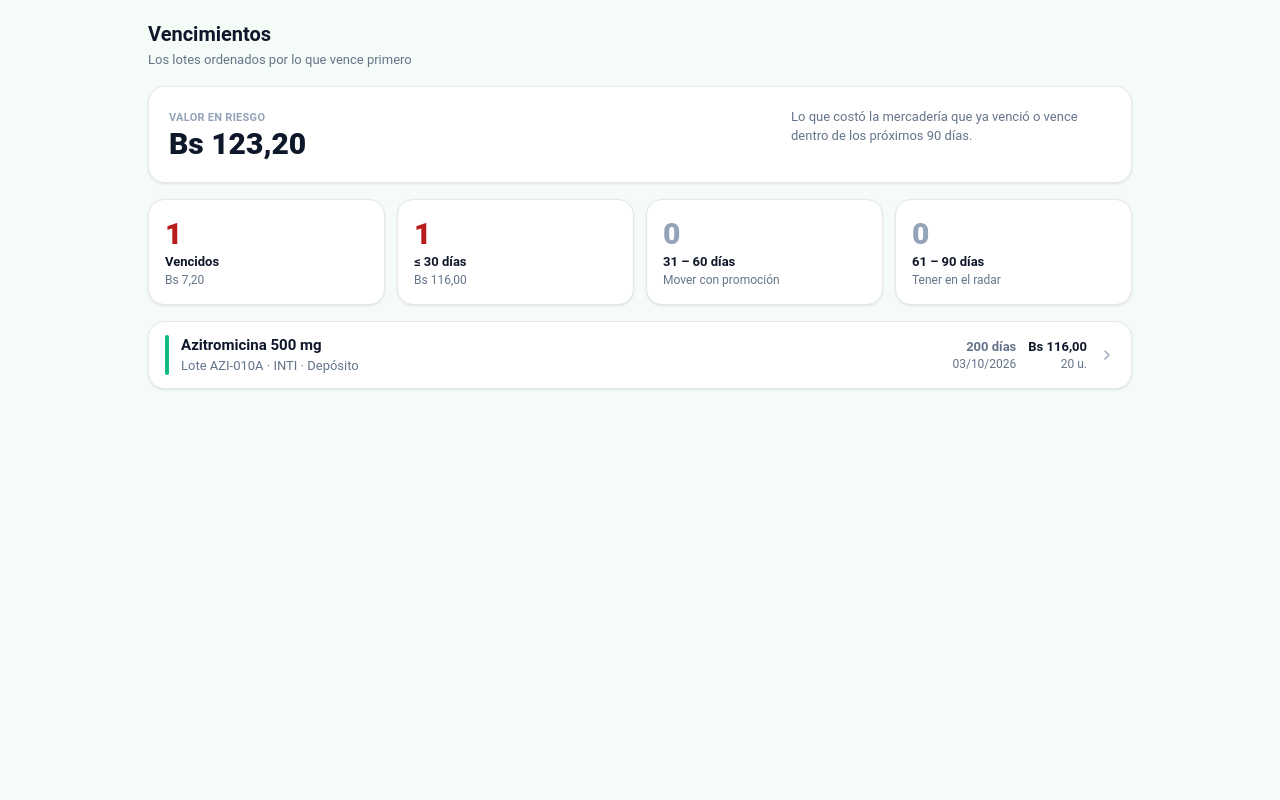
Test: Vencimientos › un lote a más de 90 días no se rotula como «61 – 90 días»
The image size is (1280, 800).
Click the text "Azitromicina 500 mg". click: [251, 344]
box: [181,336,322,354]
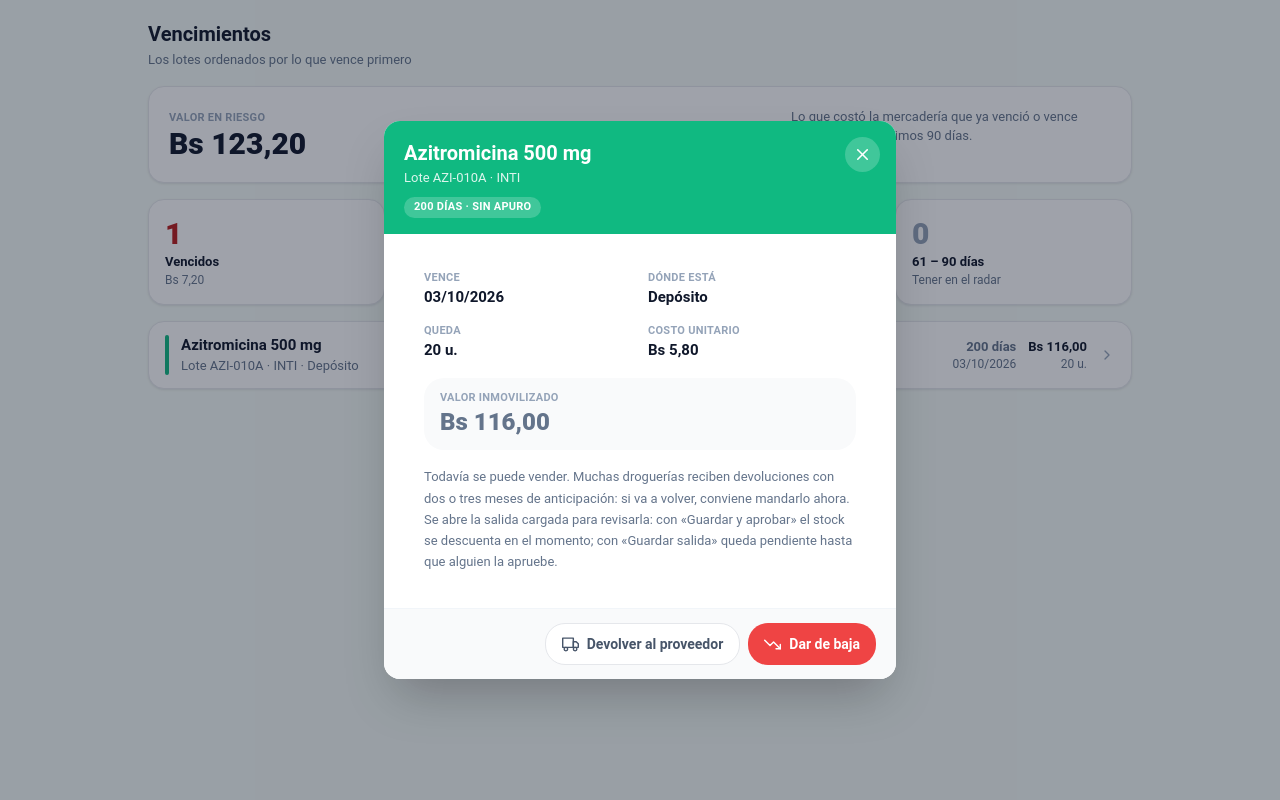
Expected: the dialog does not show "Tener en el radar", [384,121,896,679]
Expected: the dialog shows "200 días · Sin apuro", [384,121,896,679]
